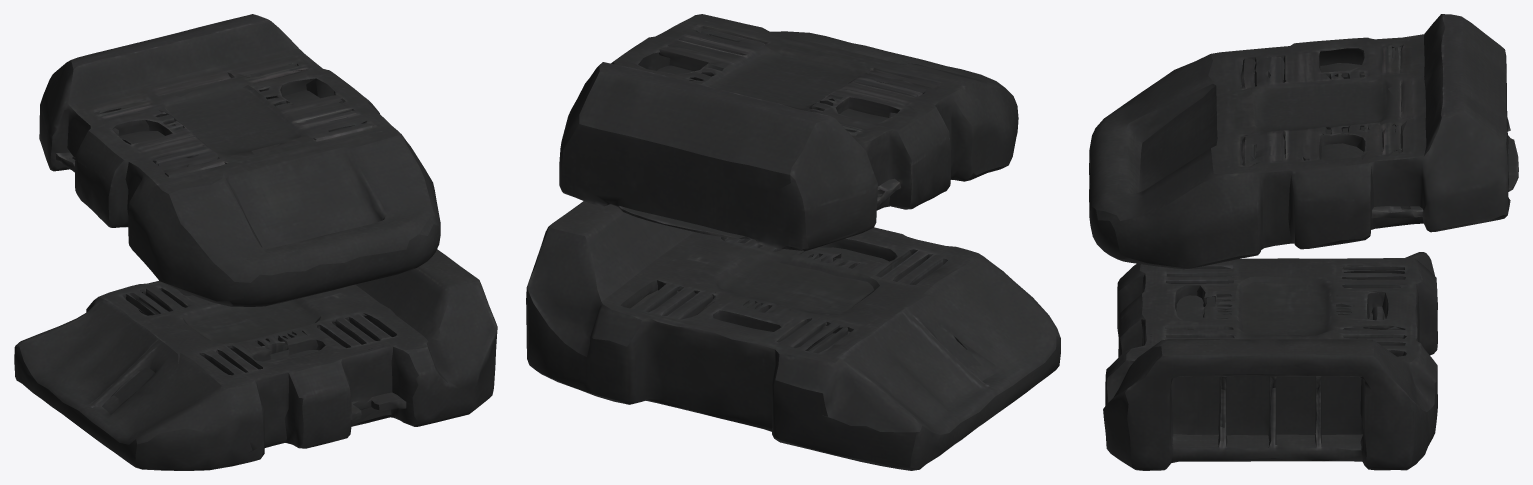
The picture shows the model from 3 angles, left to right: view 1: azimuth 30°, elevation 25°; view 2: azimuth 150°, elevation 25°; view 3: azimuth 270°, elevation 25°; orthographic projection. The views are drawn at different scales.
Parts seen in each view (by area): view 1: world; view 2: world; view 3: world.
Part boxes in pixels (left/top/right/bottom): world: left=14, top=14, right=497, bottom=470; world: left=526, top=14, right=1060, bottom=470; world: left=1089, top=14, right=1518, bottom=470.
Bounding box in the file's own units: 0.25 × 0.2036 × 0.2503.
Materials: 1 (1 with a texture image).
